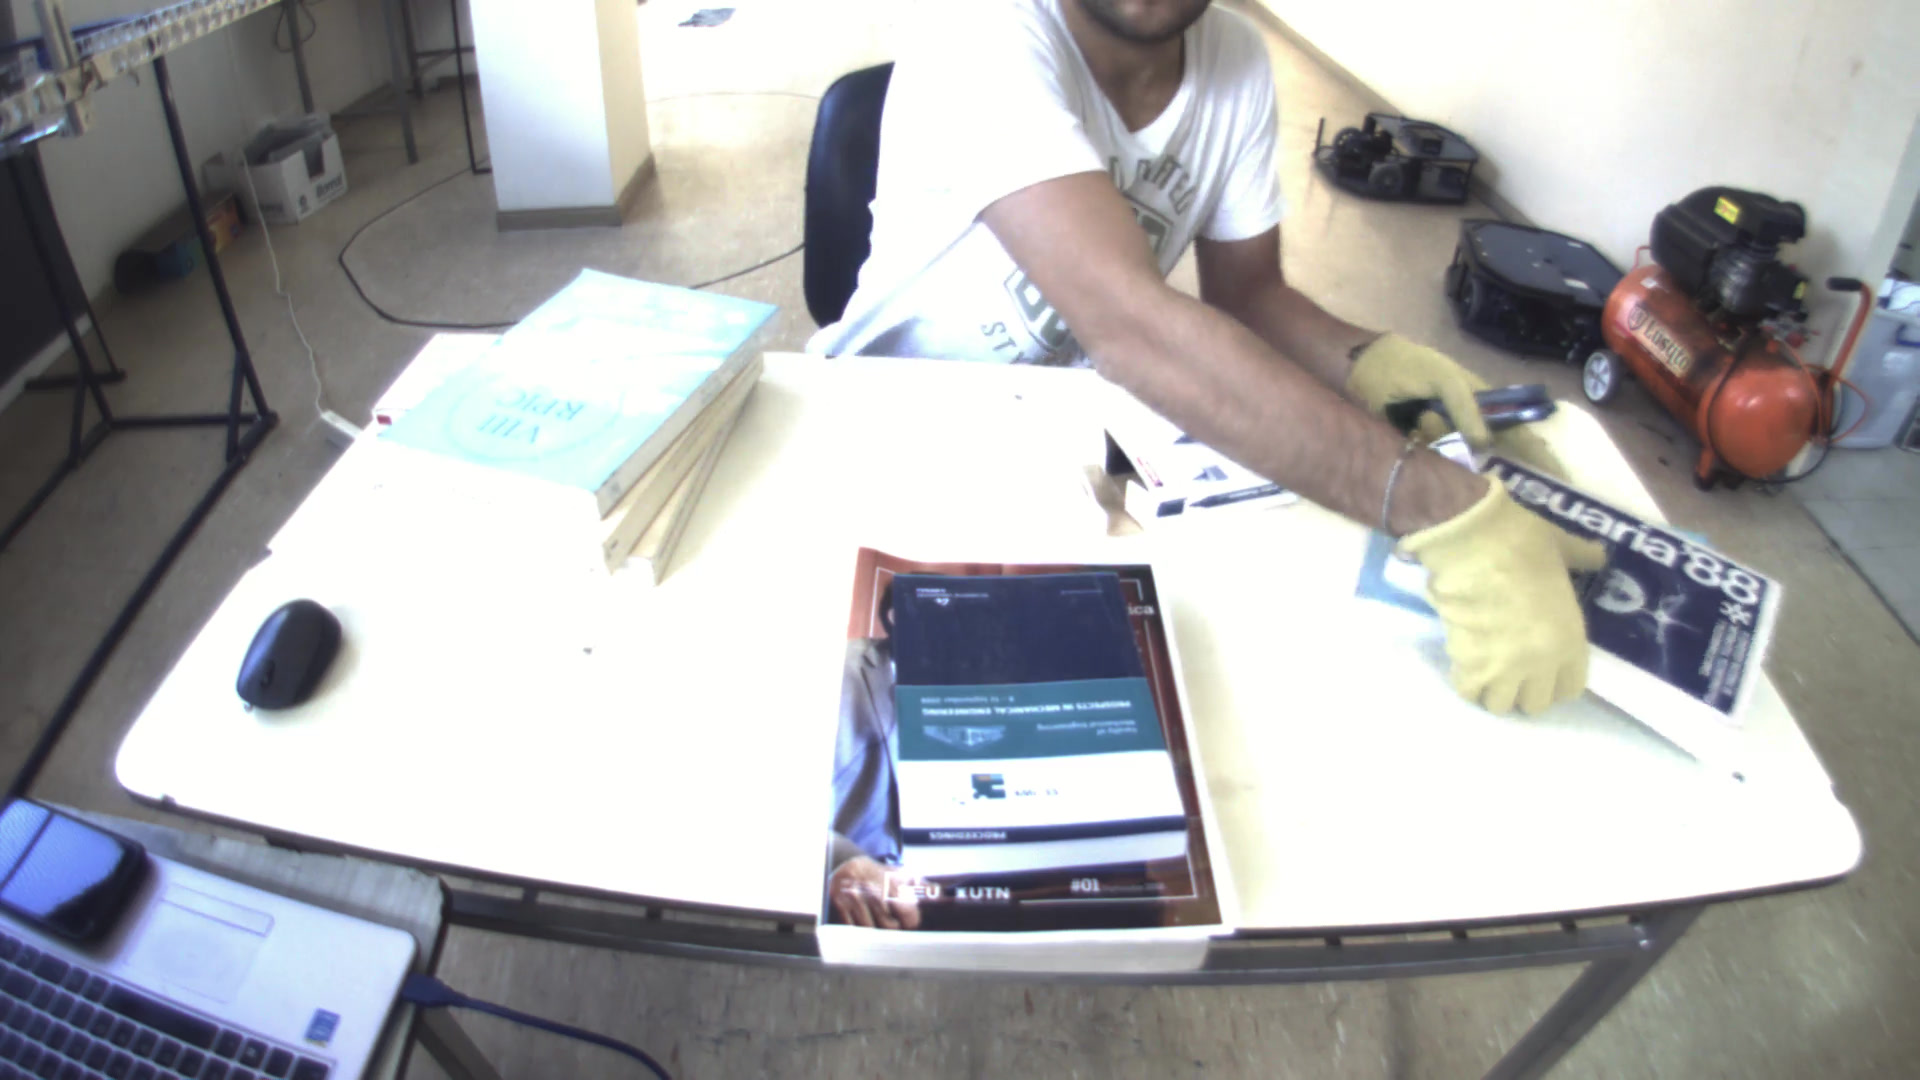hand: (1400, 477, 1605, 727), (1341, 322, 1559, 480)
